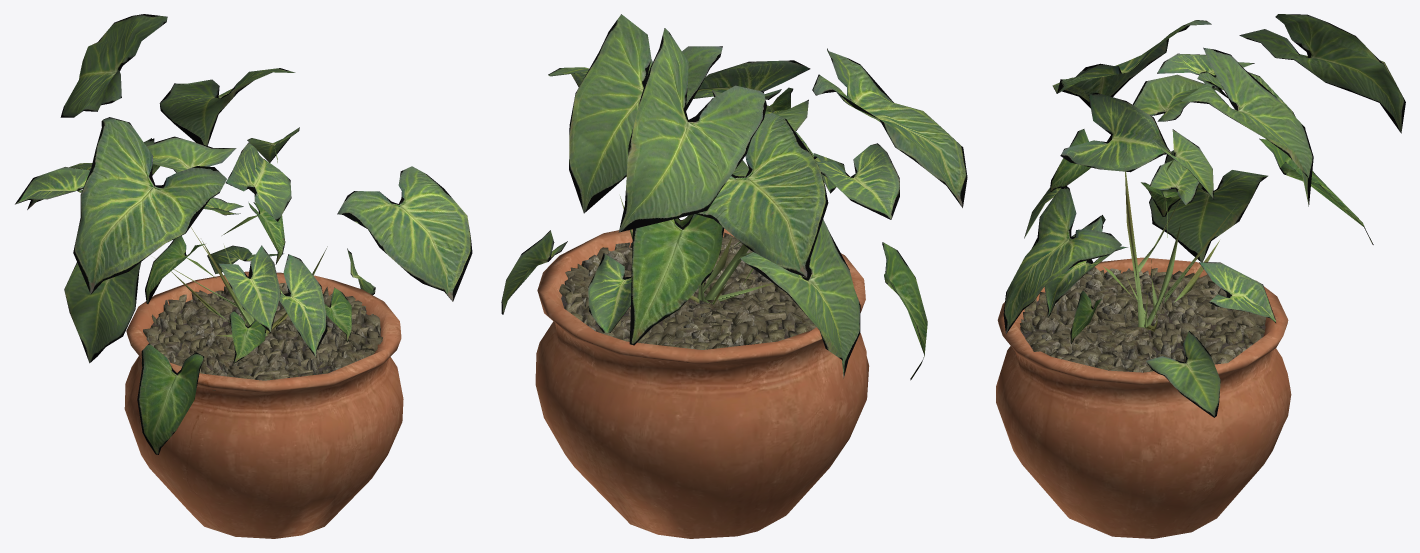
The model's file is potted-plant.glb.
3 views of the same model, side by side, from view 1: azimuth 30°, elevation 25°; view 2: azimuth 150°, elevation 25°; view 3: azimuth 270°, elevation 25° (orthographic). The views are drawn at different scales.
Parts seen in each view (by area): view 1: potted_plant_02_leaves, potted_plant_02_pot; view 2: potted_plant_02_leaves, potted_plant_02_pot; view 3: potted_plant_02_pot, potted_plant_02_leaves.
Boxes of the visible parts, x1,y1,x2,y2 form: potted_plant_02_leaves: (15,14,472,454); potted_plant_02_pot: (124,271,403,538); potted_plant_02_leaves: (501,14,967,380); potted_plant_02_pot: (535,220,869,538); potted_plant_02_pot: (996,257,1291,538); potted_plant_02_leaves: (1003,14,1405,417).
Bounding box in the file's own units: 0.7009 × 0.8395 × 0.6554.
Materials: 2 (2 with a texture image).
